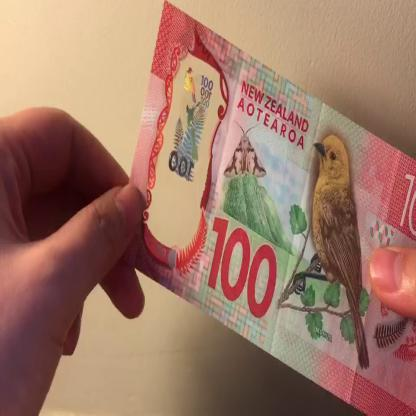100B: (168, 64, 214, 203)
